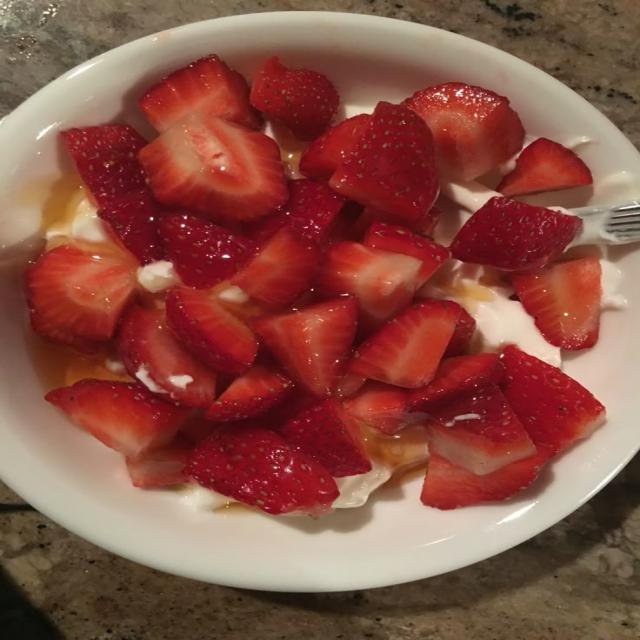strawberry sliced: (140, 117, 287, 220), (184, 423, 339, 515), (330, 102, 439, 222), (345, 354, 502, 434), (403, 83, 524, 179), (45, 379, 189, 458), (502, 346, 605, 456), (250, 297, 357, 396), (26, 245, 137, 340), (118, 306, 216, 408), (451, 197, 582, 271), (349, 300, 459, 388), (316, 241, 421, 333), (429, 386, 536, 475), (139, 55, 260, 131), (512, 257, 601, 349), (167, 287, 257, 375), (250, 57, 339, 140), (279, 399, 371, 477), (160, 213, 255, 288), (230, 227, 320, 306), (421, 453, 546, 509), (61, 125, 146, 205), (247, 179, 345, 244), (363, 221, 449, 287), (497, 138, 593, 196), (409, 354, 504, 411), (98, 190, 166, 265), (206, 365, 292, 421), (300, 115, 370, 181), (345, 380, 426, 435), (127, 436, 193, 487), (30, 309, 102, 354), (444, 306, 476, 357), (354, 207, 397, 240), (180, 412, 216, 444), (333, 372, 366, 398)
